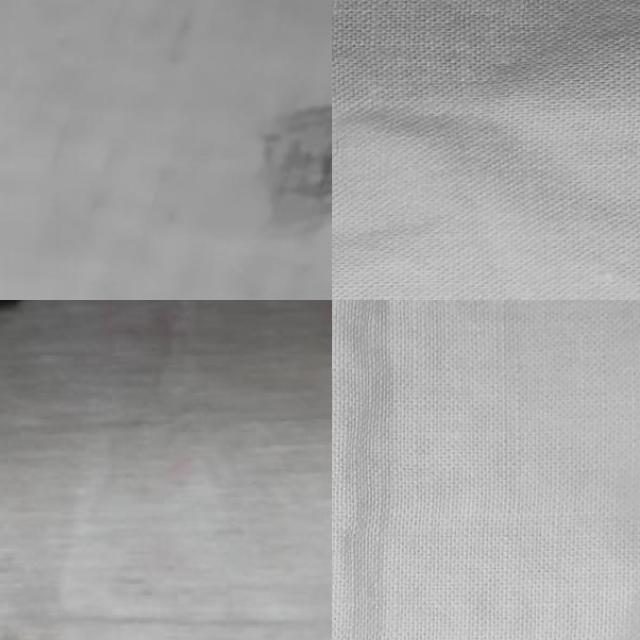Hole: (226, 77, 332, 276)
